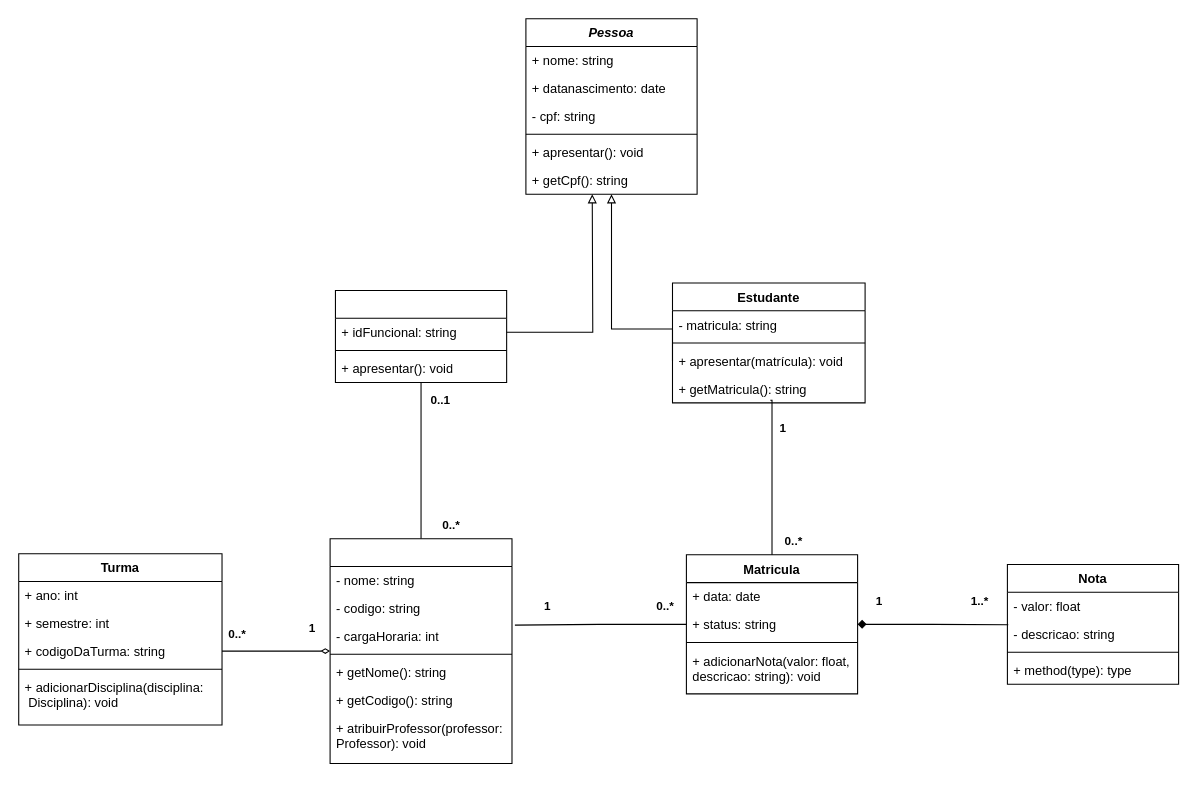
Some shapes in this 1197 by 785 pixel diagram are drawn without their labels. Here are the shapes that lost their labels. From the top down, the box of each, then its label:
(334, 289, 507, 383): Professor
(329, 538, 512, 763): Disciplina
